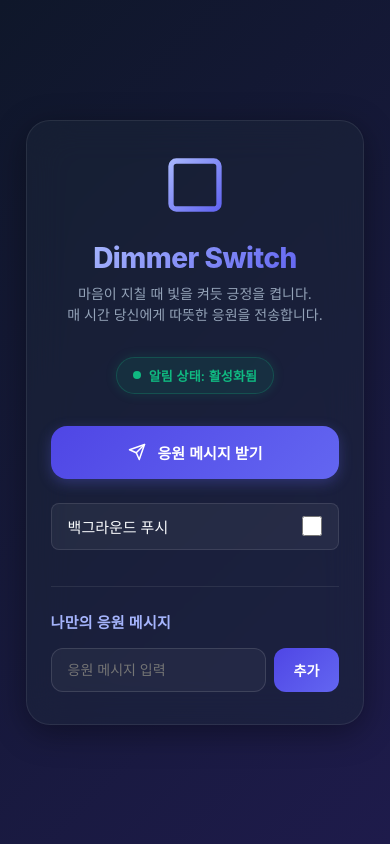
Scenario: Capacitor PWA 푸쉬 / 알림 기능 테스트 › 백그라운드 푸시 알림 설정 토글 (On/Off)
Click the checkbox labelled "백그라운드 푸시" at (312, 526), box [302,516,322,536]
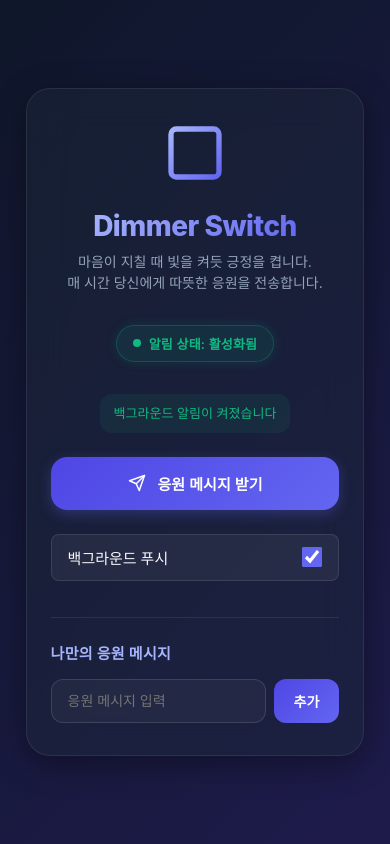
Result: the checkbox labelled "백그라운드 푸시" is checked
Result: the text "백그라운드 알림이 켜졌습니다" is shown at [100,394,290,433]
Click the checkbox labelled "백그라운드 푸시" at (312, 557), box [302,547,322,567]
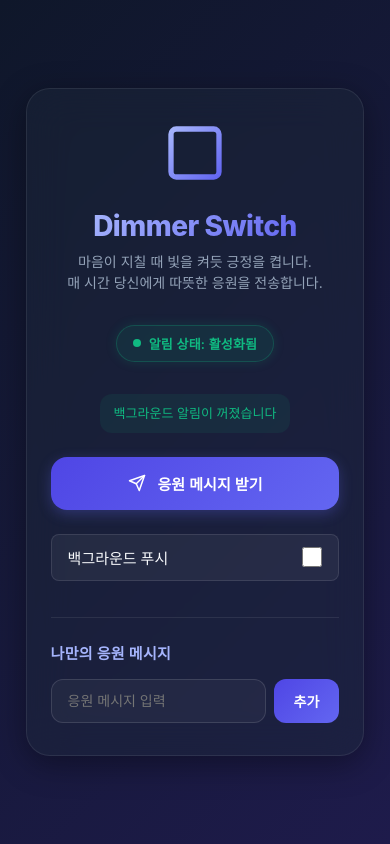
Result: the checkbox labelled "백그라운드 푸시" is not checked at [302,547,322,567]
Result: the text "백그라운드 알림이 꺼졌습니다" is shown at [100,394,290,433]
